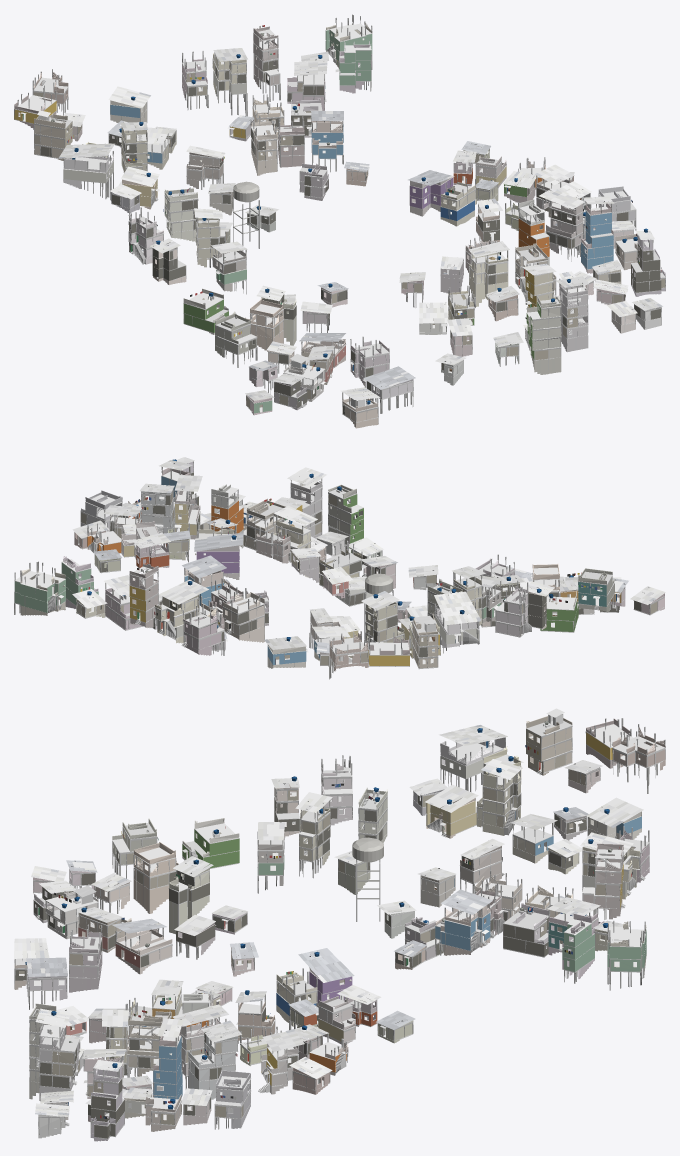
3 renders of one model, top to bottom at view 1: azimuth 30°, elevation 25°; view 2: azimuth 150°, elevation 25°; view 3: azimuth 270°, elevation 25°, orthographic. The views are drawn at different scales.
Visible parts, largest first — view 1: T_28_26; view 2: T_28_26; view 3: T_28_26.
Boxes of the visible parts, x1,y1,x2,y2 form: T_28_26: [14, 14, 665, 428]; T_28_26: [14, 457, 665, 679]; T_28_26: [14, 708, 665, 1141].
Size of the model in its own units: 137 by 51.04 by 135.
